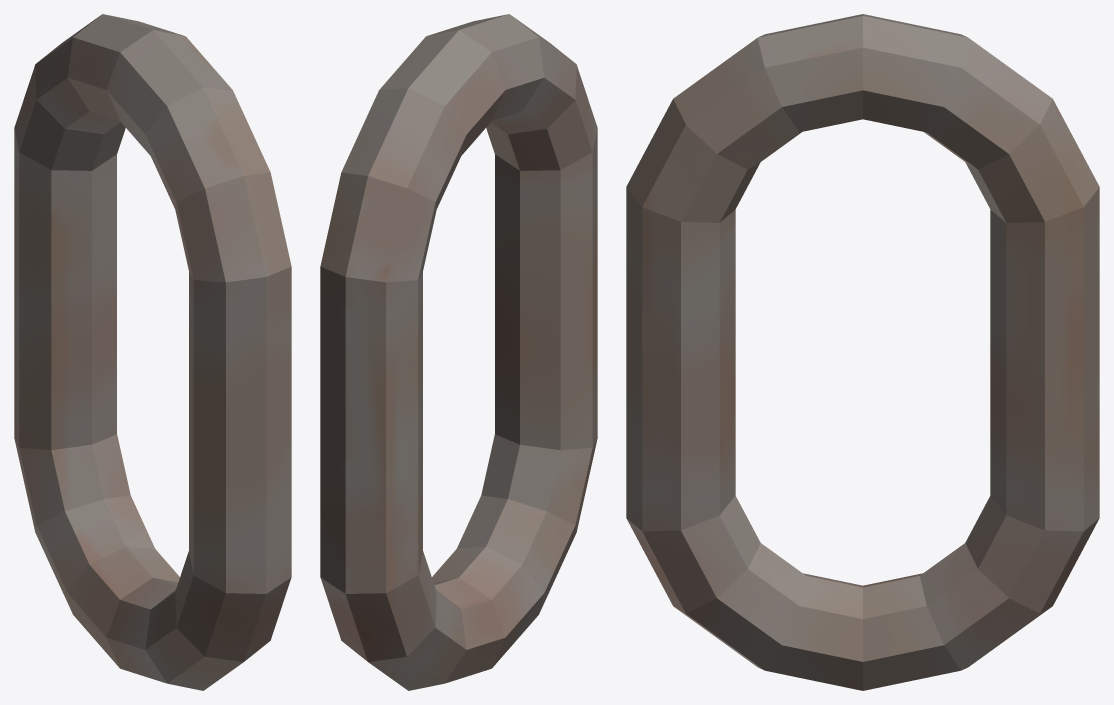
Rendered from chain_link.glb.
3 renders of one model, left to right at view 1: azimuth 30°, elevation 25°; view 2: azimuth 150°, elevation 25°; view 3: azimuth 270°, elevation 25°, orthographic. The views are drawn at different scales.
Visible parts, largest first — view 1: Torus; view 2: Torus; view 3: Torus.
Boxes of the visible parts, <box> form: Torus: <box>14,14,291,690</box>; Torus: <box>320,14,597,690</box>; Torus: <box>626,14,1099,690</box>.
Bounding box in the file's own units: 0.6 × 3.98 × 2.53.
1 material, 1 textured.
